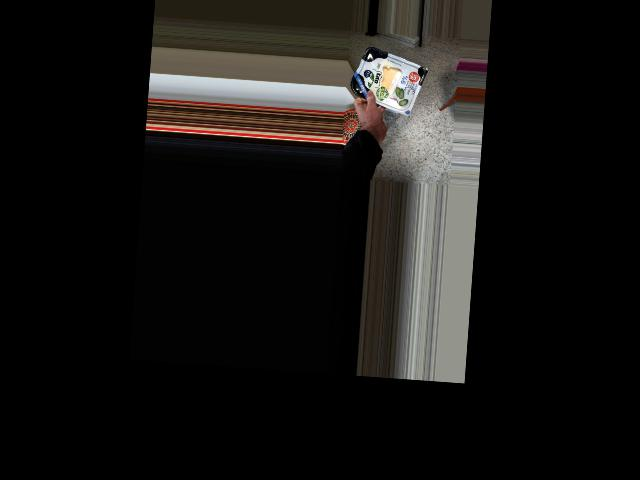cheese: (355, 55, 419, 106)
